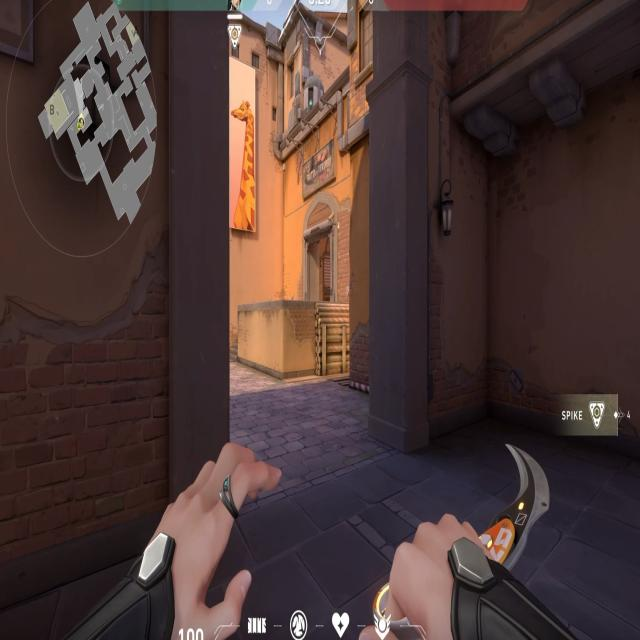B_Cubby: (278, 288, 355, 396)
